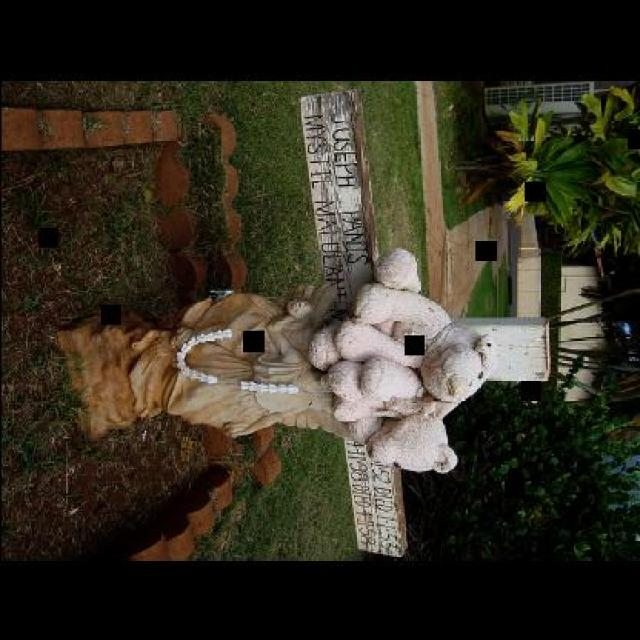unauthorized: (54, 246, 492, 474), (54, 282, 349, 443)
